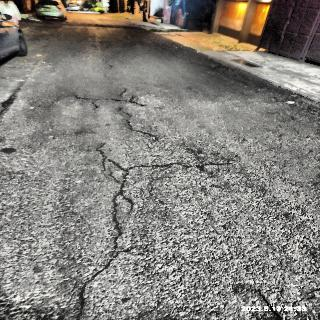crack: (70, 143, 148, 320)
